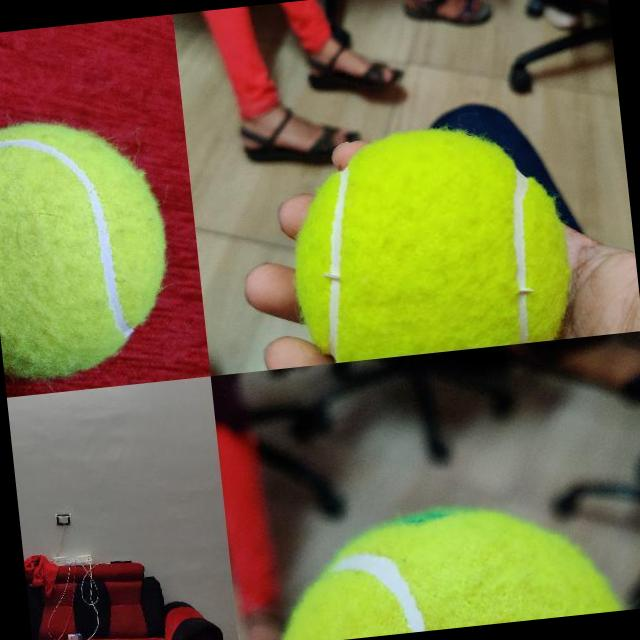Tennis Ball: (282, 117, 574, 365), (261, 491, 628, 640), (0, 107, 181, 382)
